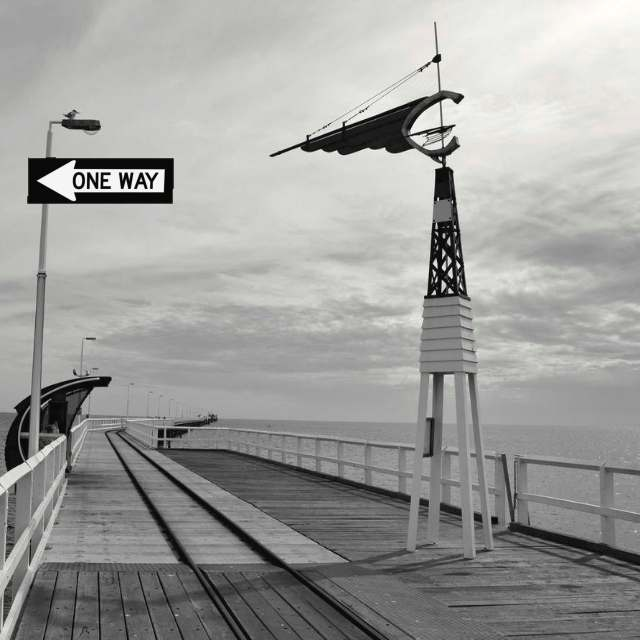ONE_WAY_ left: (27, 157, 174, 204)
